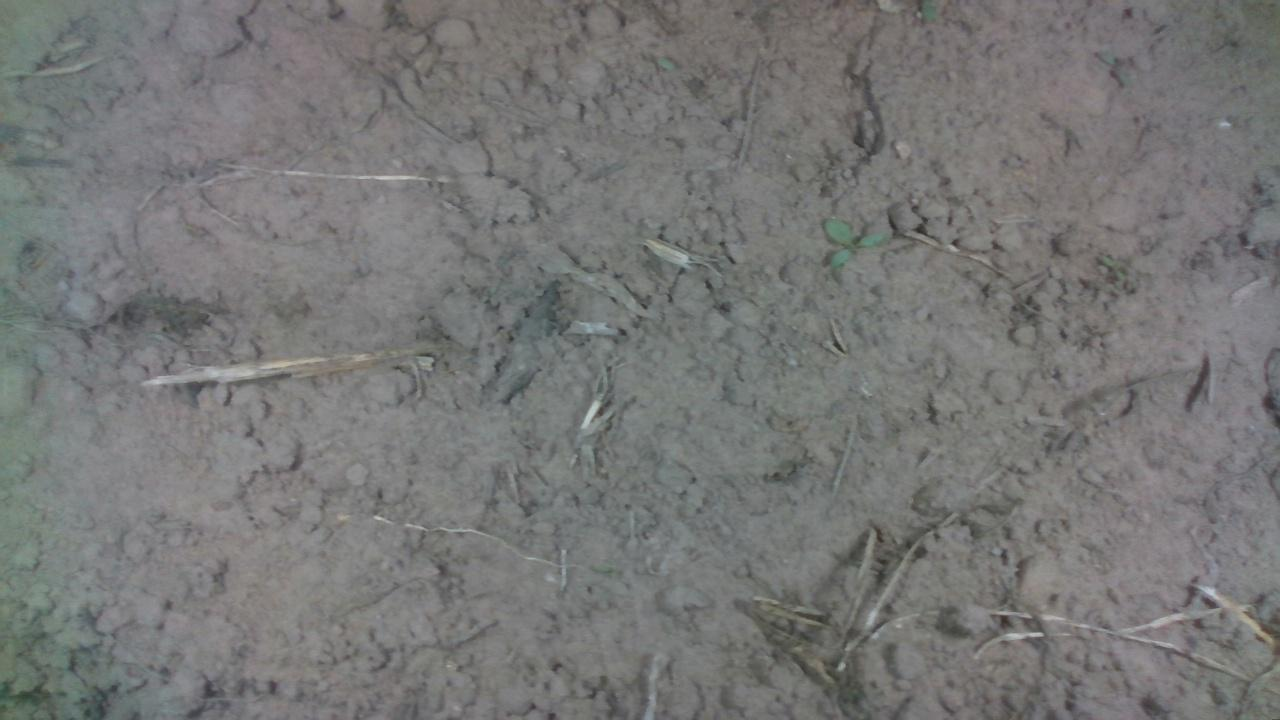weed: (820, 215, 885, 269)
